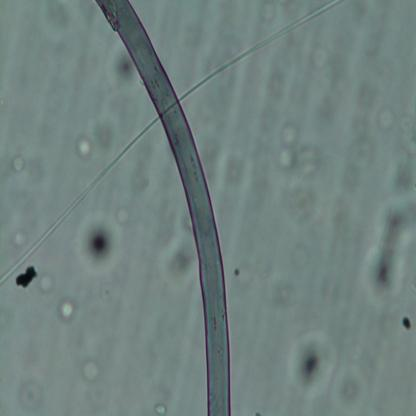Background material: (361, 190, 416, 301), (76, 212, 126, 276), (290, 330, 336, 396), (161, 238, 198, 282), (392, 119, 414, 191), (295, 144, 326, 190), (43, 2, 72, 43), (16, 376, 46, 412), (276, 121, 297, 172), (113, 52, 139, 86), (17, 265, 42, 291), (11, 224, 29, 251), (376, 108, 398, 130), (76, 138, 96, 162), (81, 355, 101, 379), (58, 298, 74, 322), (11, 152, 26, 176), (399, 310, 412, 332)
Glass filter fibre: (0, 115, 160, 285), (179, 1, 342, 101)
Microfibre: (96, 0, 236, 414)
